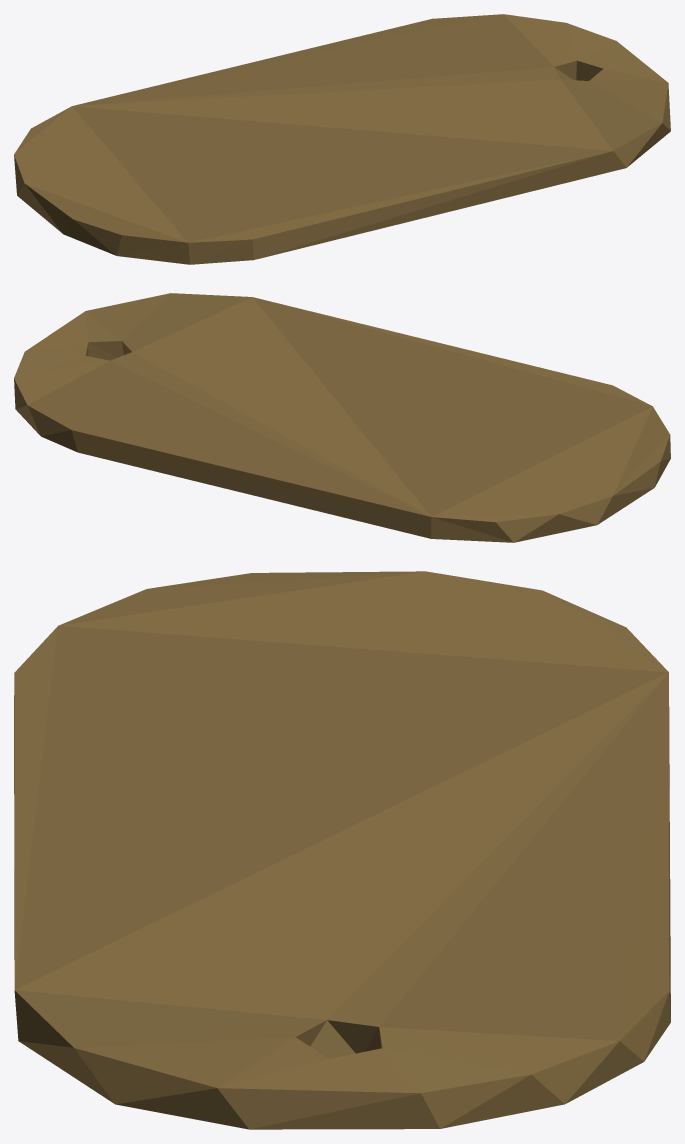
File: cutting_board.glb
3 renders of one model, top to bottom at view 1: azimuth 30°, elevation 25°; view 2: azimuth 150°, elevation 25°; view 3: azimuth 270°, elevation 25°, orthographic. The views are drawn at different scales.
Visible parts, largest first — view 1: cutting_board.001; view 2: cutting_board.001; view 3: cutting_board.001.
Boxes of the visible parts, x1,y1,x2,y2 form: cutting_board.001: [14, 14, 670, 264]; cutting_board.001: [14, 293, 670, 542]; cutting_board.001: [14, 571, 670, 1129].
Bounding box in the file's own units: 0.3988 × 0.0142 × 0.2121.
